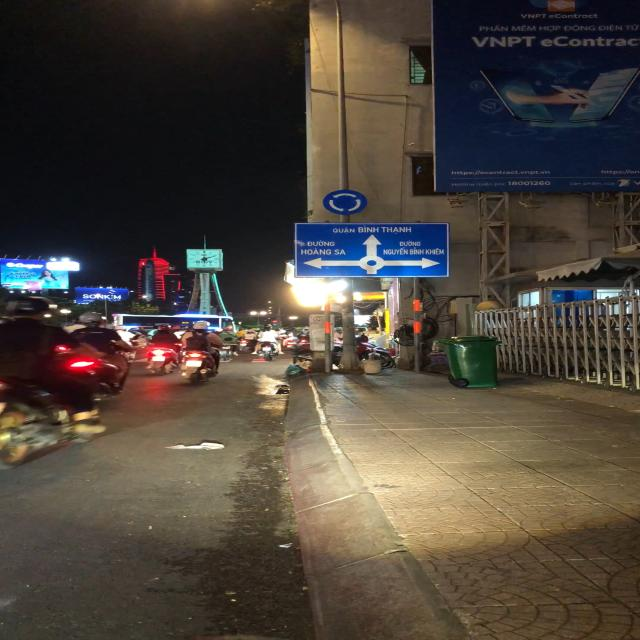Bien bao noi giao nhau chay theo vong xuyen: (320, 188, 370, 215)
